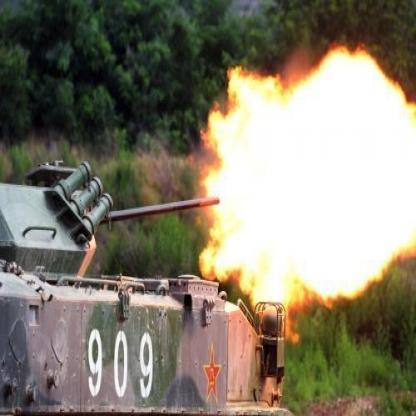fire: (201, 39, 408, 329)
